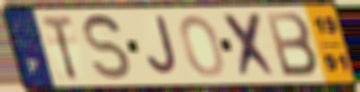B: (263, 11, 321, 80)
J: (145, 14, 180, 79)
O: (178, 13, 227, 80)
S: (82, 12, 133, 83)
T: (38, 13, 80, 83)
X: (220, 11, 282, 80)
